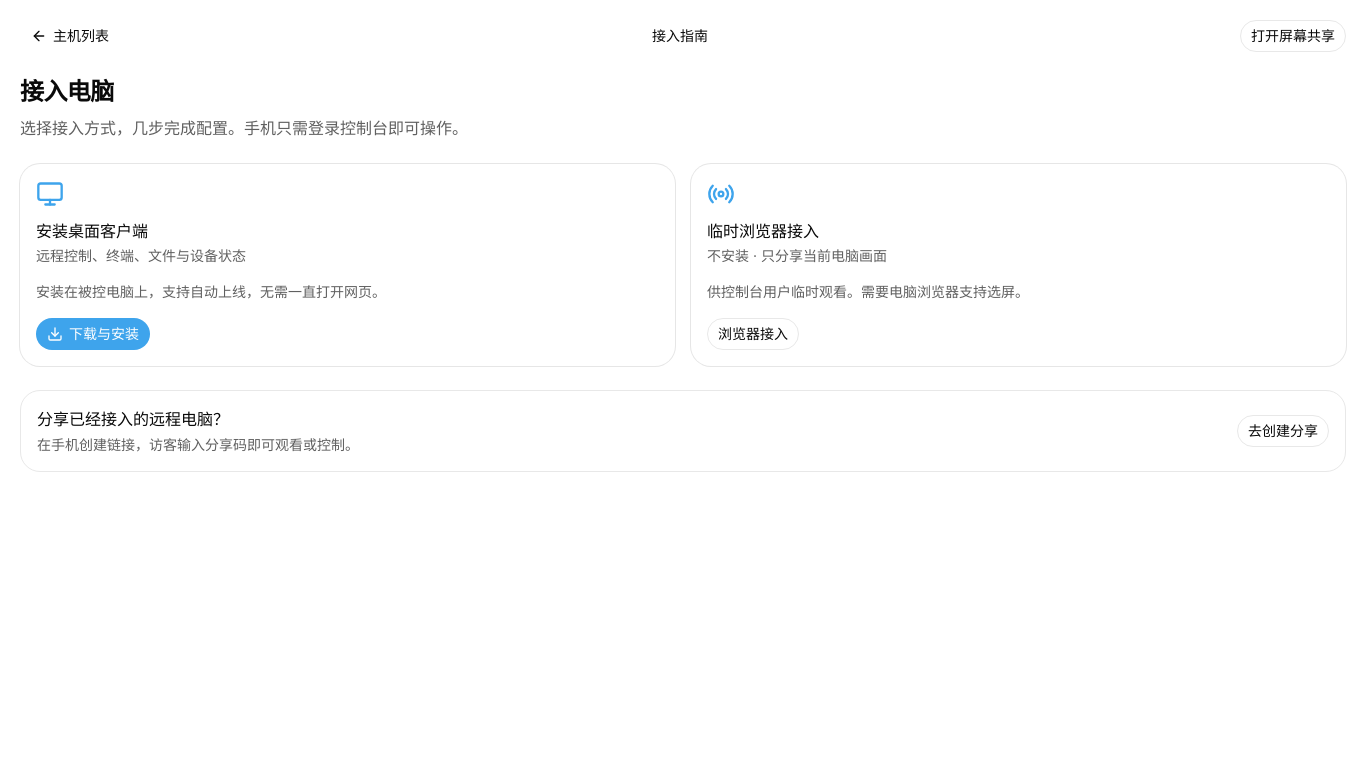
Test: missing host token explains the requirement instead of silently disabling sharing
Click the button "浏览器接入".
click(753, 334)  # box top-left (707, 318), bottom-right (799, 350)
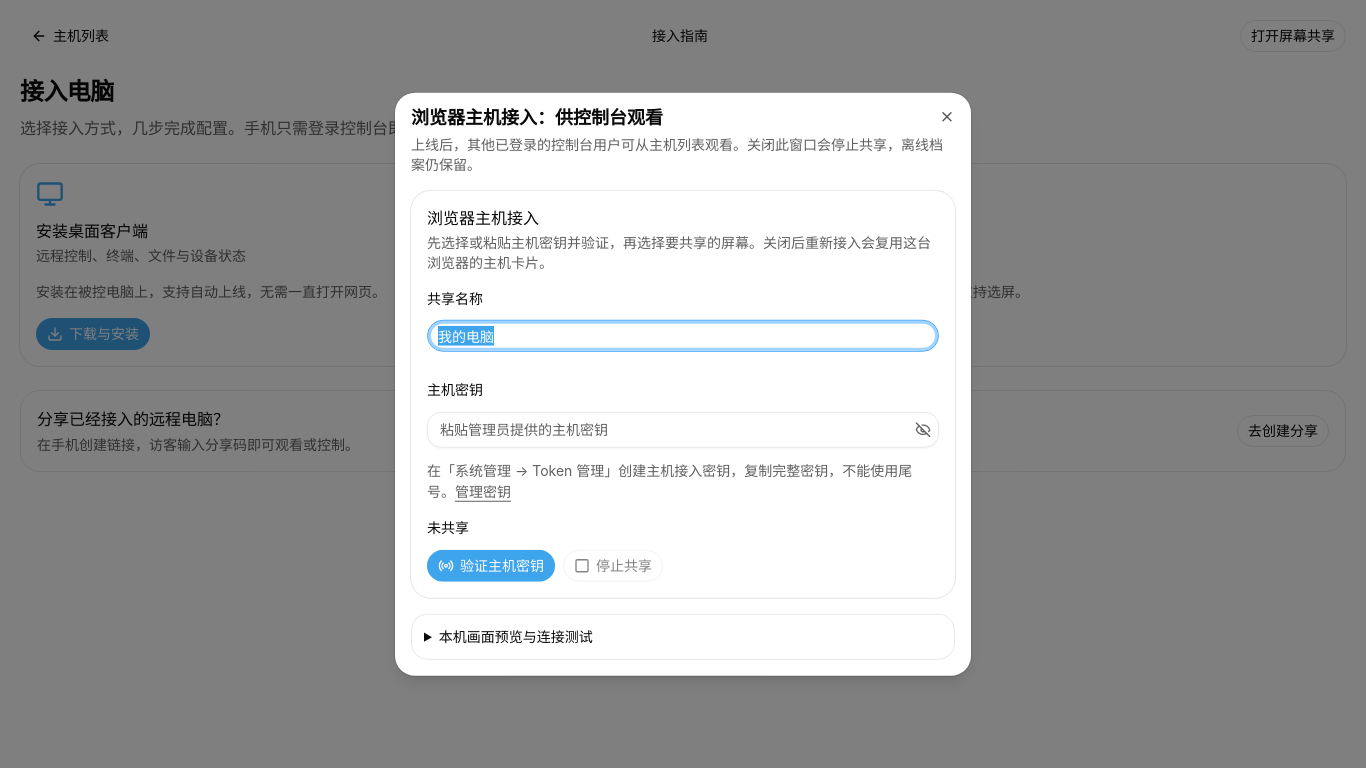
Click the button "验证主机密钥".
click(491, 565)  # box top-left (427, 549), bottom-right (555, 581)
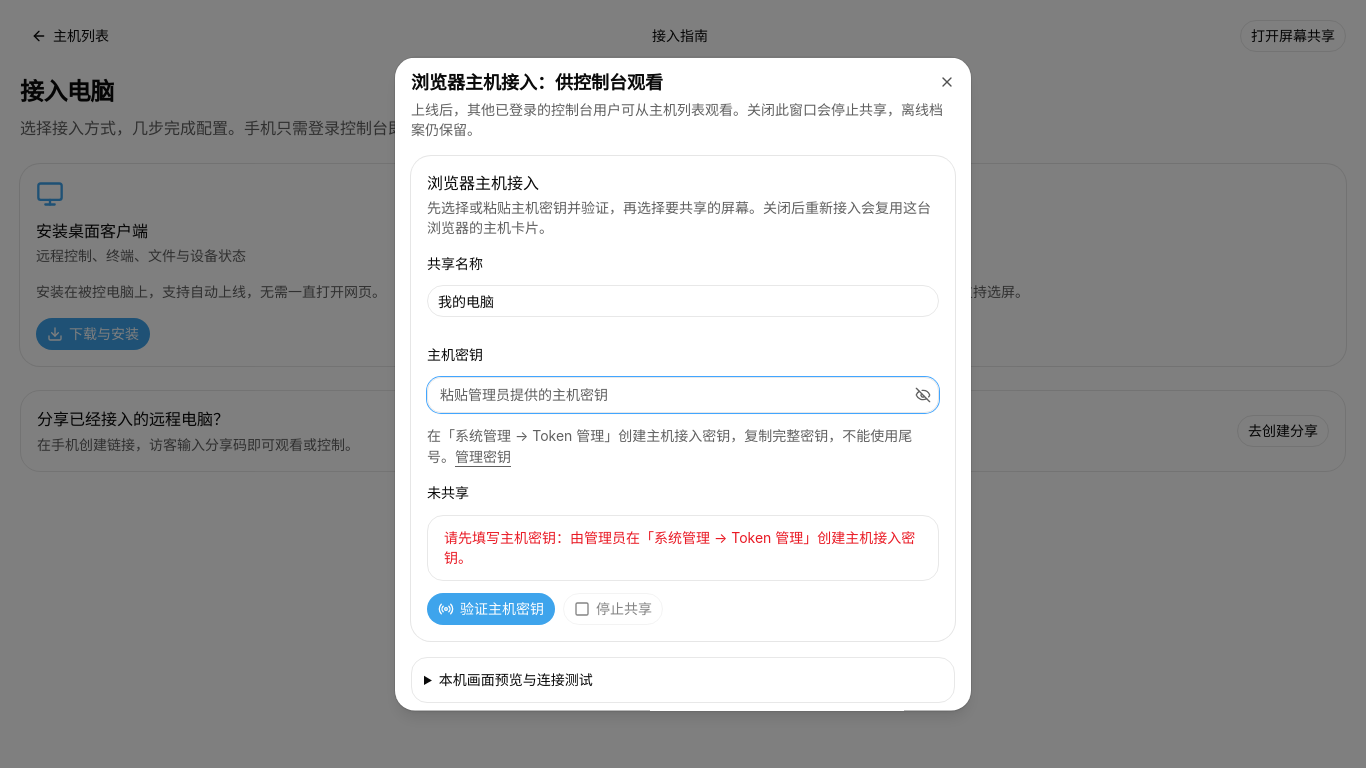
Result: the heading "浏览器主机接入：供控制台观看" is shown at top-left (411, 72), bottom-right (663, 93)
Result: the text "请先填写主机密钥：由管理员在「系统管理 → Token 管理」创建主机接入密钥。" is shown at top-left (444, 527), bottom-right (922, 567)
